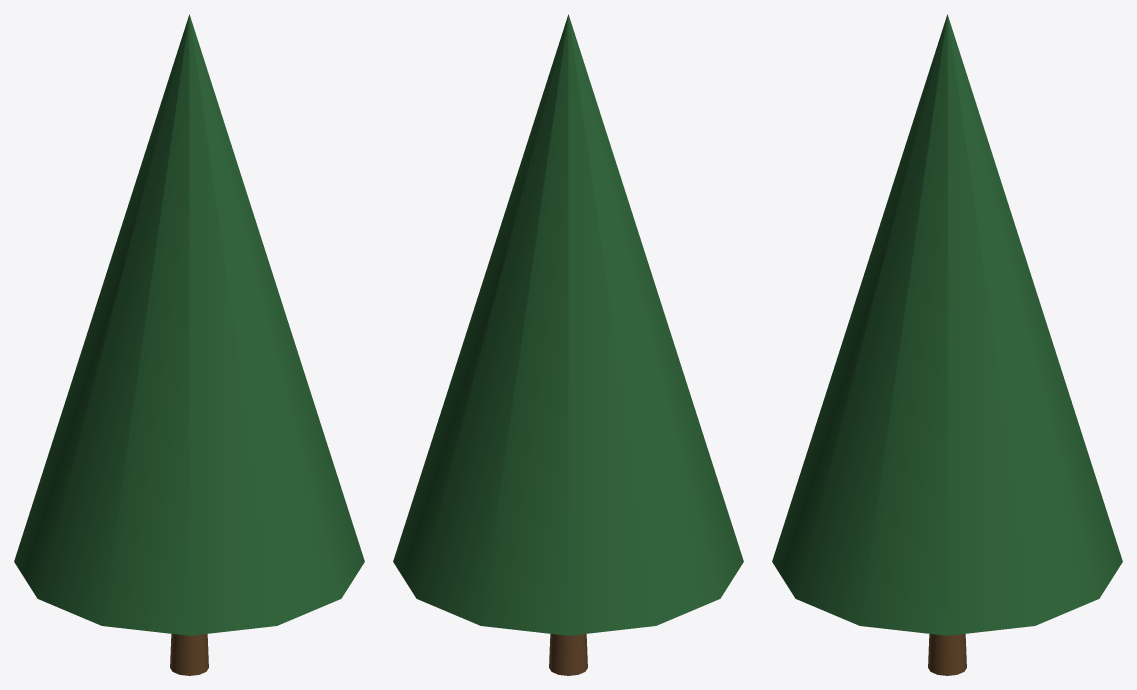
Rendered from conifer.glb.
The picture shows the model from 3 angles, left to right: view 1: azimuth 30°, elevation 25°; view 2: azimuth 150°, elevation 25°; view 3: azimuth 270°, elevation 25°; orthographic projection.
Size of the model in its own units: 3.6 by 7.4 by 3.6.
